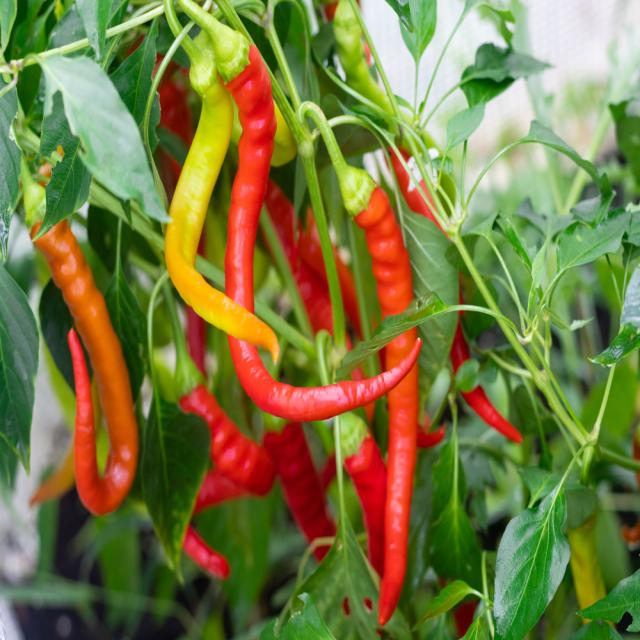Ripe: (223, 38, 425, 427), (353, 184, 423, 632), (35, 219, 138, 515), (180, 386, 275, 495), (264, 423, 336, 542), (453, 330, 525, 449), (345, 435, 386, 576)
Unripe: (165, 36, 279, 360), (334, 0, 394, 115), (568, 509, 606, 609)
